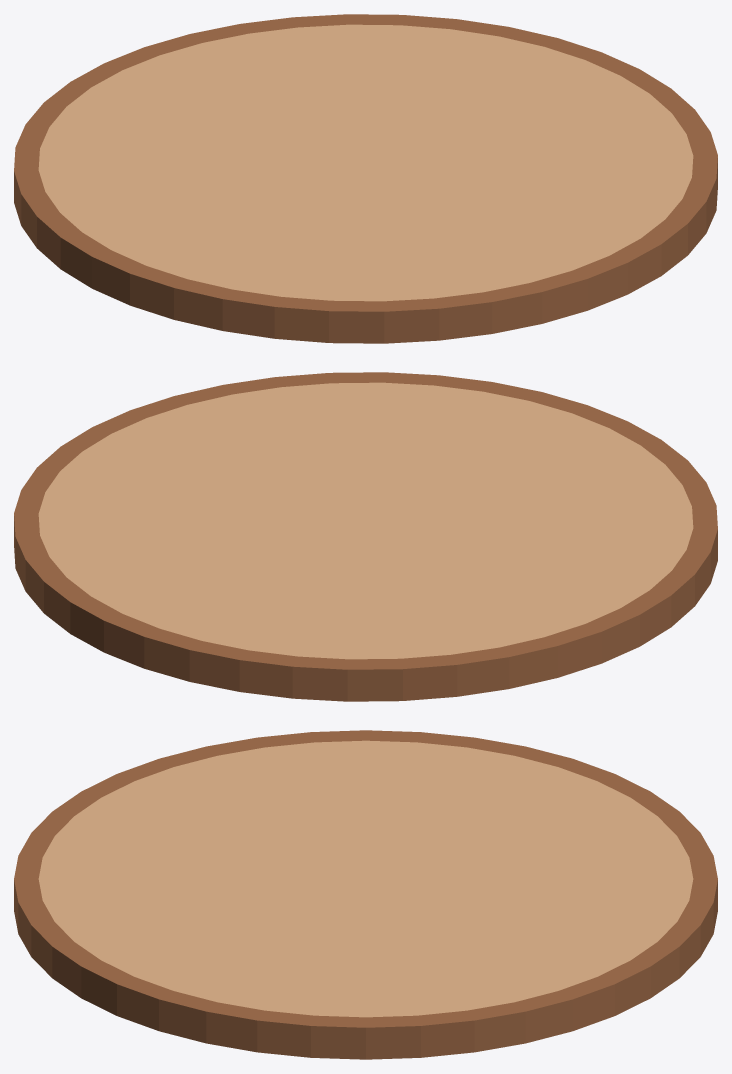
Rendered from chao-vila-doce.glb.
The picture shows the model from 3 angles, top to bottom: view 1: azimuth 30°, elevation 25°; view 2: azimuth 150°, elevation 25°; view 3: azimuth 270°, elevation 25°; orthographic projection.
Visible parts, largest first — view 1: chao-vila-doce; view 2: chao-vila-doce; view 3: chao-vila-doce.
Part boxes in pixels (x1=…): chao-vila-doce: x1=14, y1=14, x2=717, y2=343; chao-vila-doce: x1=14, y1=372, x2=717, y2=701; chao-vila-doce: x1=14, y1=730, x2=717, y2=1059.
Size of the model in its own units: 2 by 0.1 by 2.
